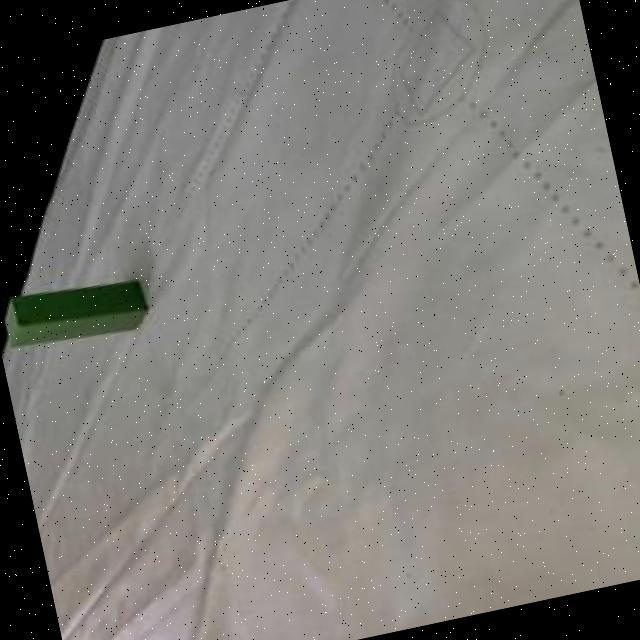greenbox: (0, 268, 153, 359)
